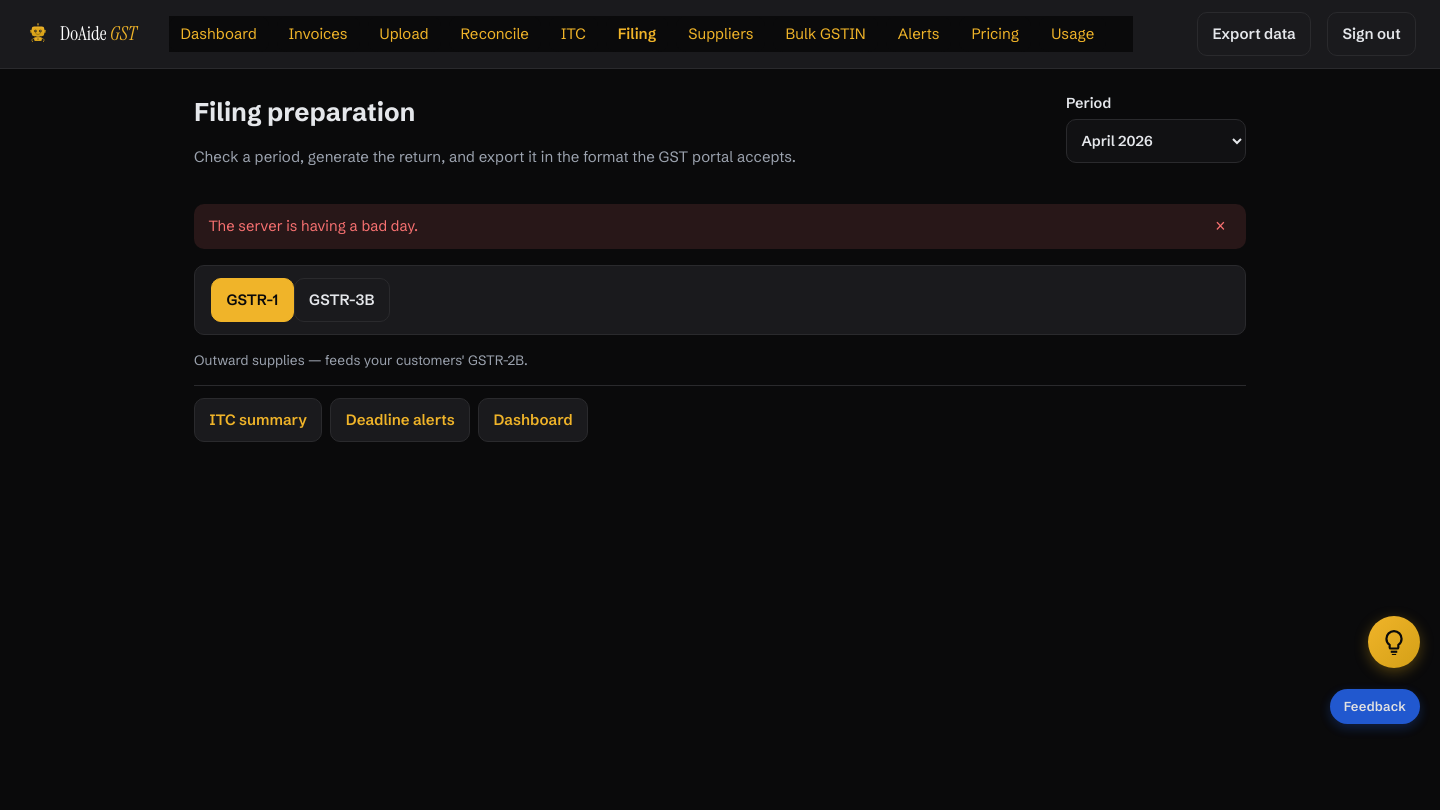
Test: dismissing the error a page reports › /filing lets the user close it
Click the button named "Dismiss". click: [1220, 227]
box: [1209,215,1232,238]
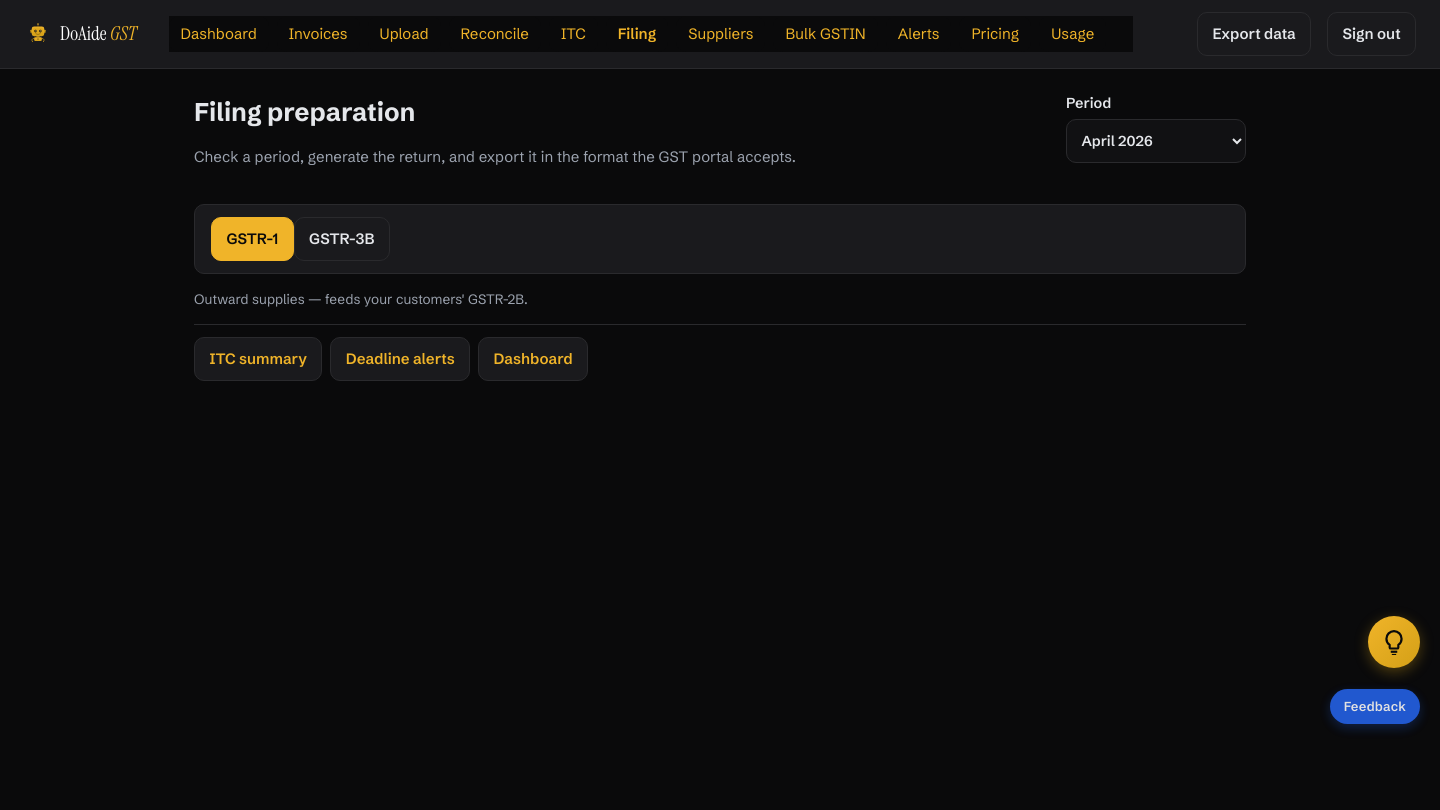
Expected: the link "Filing" is shown, [606,16,668,52]
Now the message "The server is having a bad day. ×" is gone
